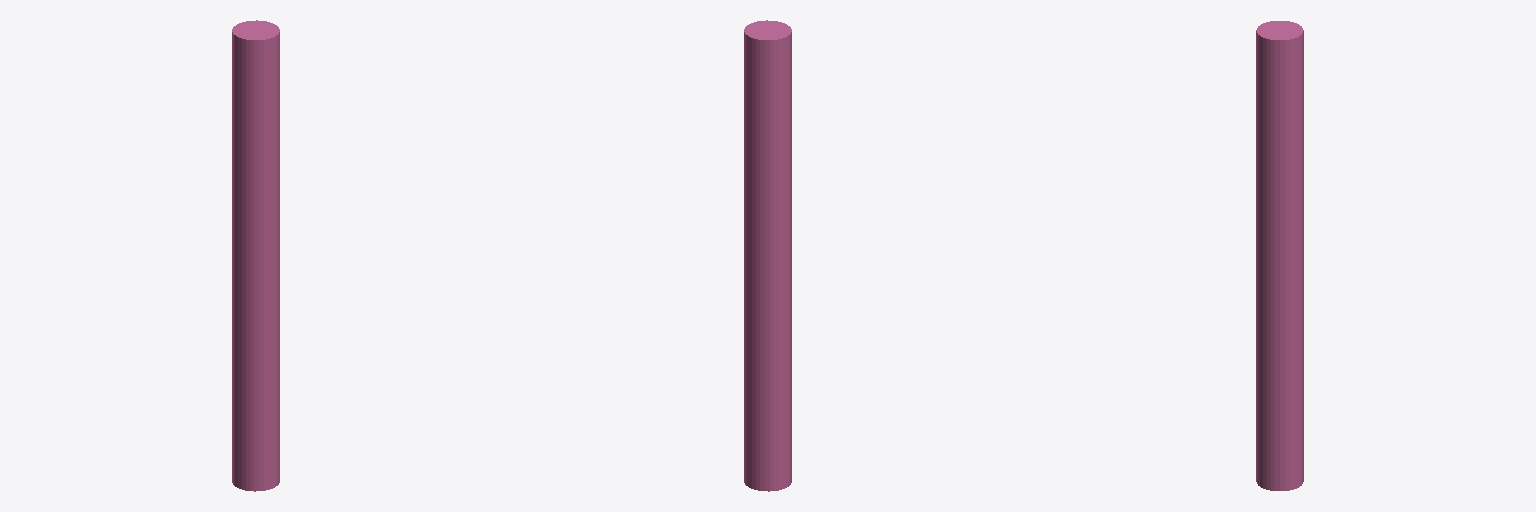
The robot description file, URDF, robot "ezgripper_stand_alone":
<?xml version="1.0" ?>
<!-- =================================================================================== -->
<!-- |    This document was autogenerated by xacro from ezgripper_dual_gen2_standalone.urdf.xacro | -->
<!-- |    EDITING THIS FILE BY HAND IS NOT RECOMMENDED                                 | -->
<!-- =================================================================================== -->
<robot name="ezgripper_stand_alone" xmlns:xacro="http://ros.org/wiki/xacro">
  <!--xacro:macro name="ezgripper" params="*origin"-->
  <!-- joints -->
  <!-- transmissions for Gazebo -->
  <gazebo>
    <plugin filename="libgazebo_ros_control.so" name="gazebo_ros_control">
   </plugin>
  </gazebo>
  <!-- links -->
  <link name="left_ezgripper_palm_link">
    <visual>
      <origin rpy="0 0 0" xyz="0 0 0"/>
      <geometry>
        <mesh filename="package://meshes/ezgripper_gen2/SAKE_Palm_Dual_Gen2.stl"/>
      </geometry>
    </visual>
    <collision>
      <origin rpy="0 0 0" xyz="0 0 0"/>
      <geometry>
        <mesh filename="package://meshes/ezgripper_gen2/SAKE_Palm_Dual_Gen2.stl"/>
      </geometry>
    </collision>
    <inertial>
      <mass value=".3"/>
      <inertia ixx="0.01" ixy="0.0" ixz="0.0" iyy="0.01" iyz="0.0" izz="0.01"/>
    </inertial>
  </link>
  <joint name="left_ezgripper_connect" type="fixed">
    <origin rpy="0 0 0" xyz="0.0 0.0 0.0"/>
    <!-- <origin rpy="0 0 0" xyz="0.049 0.0 0.2"/> -->
    <parent link="base_link"/>
    <child link="left_ezgripper_palm_link"/>
    <axis xyz="0 0 0"/>
    <limit effort="0" lower="-1.57075" upper="0.25" velocity="3.67"/>
  </joint>
  <link name="left_ezgripper_finger_L1_1">
    <visual>
      <origin rpy="0 0 0" xyz="0 0 0"/>
      <geometry>
        <mesh filename="package://meshes/ezgripper_gen2/SAKE_Finger_L1_Gen2.stl"/>
      </geometry>
    </visual>
    <collision>
      <origin rpy="0 0 0" xyz="0 0 0"/>
      <geometry>
        <mesh filename="package://meshes/ezgripper_gen2/SAKE_Finger_L1_Gen2.stl"/>
      </geometry>
    </collision>
    <inertial>
      <mass value=".025"/>
      <inertia ixx="0.01" ixy="0.0" ixz="0.0" iyy="0.01" iyz="0.0" izz="0.01"/>
    </inertial>
  </link>
  <link name="left_ezgripper_finger_L1_2">
    <visual>
      <origin rpy="0 0 0" xyz="0 0 0"/>
      <geometry>
        <mesh filename="package://meshes/ezgripper_gen2/SAKE_Finger_L1_Gen2.stl"/>
      </geometry>
    </visual>
    <collision>
      <origin rpy="0 0 0" xyz="0 0 0"/>
      <geometry>
        <mesh filename="package://meshes/ezgripper_gen2/SAKE_Finger_L1_Gen2.stl"/>
      </geometry>
    </collision>
    <inertial>
      <mass value=".025"/>
      <inertia ixx="0.01" ixy="0.0" ixz="0.0" iyy="0.01" iyz="0.0" izz="0.01"/>
    </inertial>
  </link>
  <link name="left_ezgripper_finger_L2_1">
    <visual>
      <origin rpy="0 0 0" xyz="0 0 0"/>
      <geometry>
        <mesh filename="package://meshes/ezgripper_gen2/SAKE_Finger_L2_Gen2.stl"/>
      </geometry>
    </visual>
    <collision>
      <origin rpy="0 0 0" xyz="0 0 0"/>
      <geometry>
        <mesh filename="package://meshes/ezgripper_gen2/SAKE_Finger_L2_Gen2.stl"/>
      </geometry>
    </collision>
    <inertial>
      <mass value=".025"/>
      <inertia ixx="0.01" ixy="0.0" ixz="0.0" iyy="0.01" iyz="0.0" izz="0.01"/>
    </inertial>
  </link>
  <link name="left_ezgripper_finger_L2_2">
    <visual>
      <origin rpy="0 0 0" xyz="0 0 0"/>
      <geometry>
        <mesh filename="package://meshes/ezgripper_gen2/SAKE_Finger_L2_Gen2.stl"/>
      </geometry>
    </visual>
    <collision>
      <origin rpy="0 0 0" xyz="0 0 0"/>
      <geometry>
        <mesh filename="package://meshes/ezgripper_gen2/SAKE_Finger_L2_Gen2.stl"/>
      </geometry>
    </collision>
    <inertial>
      <mass value=".025"/>
      <inertia ixx="0.01" ixy="0.0" ixz="0.0" iyy="0.01" iyz="0.0" izz="0.01"/>
    </inertial>
  </link>
  <joint name="left_ezgripper_knuckle_palm_L1_1" type="revolute">
    <parent link="left_ezgripper_palm_link"/>
    <child link="left_ezgripper_finger_L1_1"/>
    <origin rpy="-1.5708 0 1.57075" xyz="0.072569 0.03 0"/>
    <axis xyz="0 1 0"/>
    <limit effort="1" lower="0" upper="1.94" velocity="3.67"/>
  </joint>
  <joint name="left_ezgripper_knuckle_palm_L1_2" type="revolute">
    <parent link="left_ezgripper_palm_link"/>
    <child link="left_ezgripper_finger_L1_2"/>
    <origin rpy="1.5708 0 -1.57075" xyz="0.072569 -0.03 0"/>
    <axis xyz="0 1 0"/>
    <limit effort="1" lower="0" upper="1.94" velocity="3.67"/>
    <mimic joint="left_ezgripper_knuckle_palm_L1_1"/>
  </joint>
  <joint name="left_ezgripper_knuckle_L1_L2_1" type="revolute">
    <parent link="left_ezgripper_finger_L1_1"/>
    <child link="left_ezgripper_finger_L2_1"/>
    <origin rpy="0 0 0" xyz="0.052 0 0"/>
    <!-- origin xyz="0.06 0 0" rpy="${3.14159 * reflectR} 0 0"/-->
    <axis xyz="0 1 0"/>
    <limit effort="1" lower="0" upper="1.94" velocity="3.67"/>
  </joint>
  <joint name="left_ezgripper_knuckle_L1_L2_2" type="revolute">
    <parent link="left_ezgripper_finger_L1_2"/>
    <child link="left_ezgripper_finger_L2_2"/>
    <origin rpy="0 0 0" xyz="0.052 0 0"/>
    <!-- origin xyz="0.06 0 0" rpy="${3.14159 * reflectR} 0 0"/-->
    <axis xyz="0 1 0"/>
    <limit effort="1" lower="0" upper="1.94" velocity="3.67"/>
    <mimic joint="left_ezgripper_knuckle_L1_L2_1"/>
  </joint>
  <transmission name="left_ezgripper_trans_L1_L2_1">
    <type>transmission_interface/SimpleTransmission</type>
    <joint name="left_ezgripper_knuckle_L1_L2_1">
      <hardwareInterface>hardware_interface/PositionJointInterface</hardwareInterface>
    </joint>
    <actuator name="left_ezgripper_motorL1_L2_1">
      <mechanicalReduction>1</mechanicalReduction>
      <hardwareInterface>hardware_interface/PositionJointInterface</hardwareInterface>
    </actuator>
  </transmission>
  <gazebo>
    <plugin filename="libgazebo_ros_joint_state_publisher.so" name="joint_state_publisher">
      <jointName>left_ezgripper_knuckle_L1_L2_1,left_ezgripper_knuckle_L1_L2_2</jointName>
    </plugin>
  </gazebo>
  <link name="world"/>
  <joint name="fixed" type="fixed">
    <parent link="world"/>
    <child link="base_link"/>
  </joint>
  <link name="base_link">
    <visual>
      <geometry>
        <cylinder length="0.42" radius="0.02"/>
      </geometry>
      <origin rpy="0 0 0" xyz="0 0 0.0"/>
      <material name="red"/>
    </visual>
  </link>
</robot>

--- Facts derived from the render (not from the file) ---
Views: 3 orthographic renders of the robot side by side, from view 1: azimuth 30°, elevation 25°; view 2: azimuth 150°, elevation 25°; view 3: azimuth 270°, elevation 25°.
Model ezgripper_stand_alone with 7 links and 6 joints (4 revolute, 2 fixed), rooted at world, posed all joints at 0.
Links seen in each view (by area): view 1: base_link; view 2: base_link; view 3: base_link.
Boxes of the visible links, x1,y1,x2,y2 form: base_link: [232, 20, 279, 491]; base_link: [744, 20, 791, 491]; base_link: [1256, 21, 1303, 490].
Size in the robot's own frame: 0.04 by 0.04 by 0.42 metres.
0 mesh visuals loaded from 3 distinct referenced files (none loaded); not drawn: 5 (reference not matched to a file when rendering).